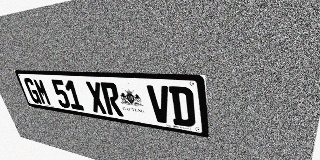1: (63, 80, 84, 111)
5: (51, 79, 72, 109)
D: (169, 86, 196, 128)
G: (23, 78, 42, 104)
M: (32, 78, 52, 106)
R: (100, 82, 124, 117)
V: (146, 85, 173, 124)
X: (85, 81, 108, 114)
